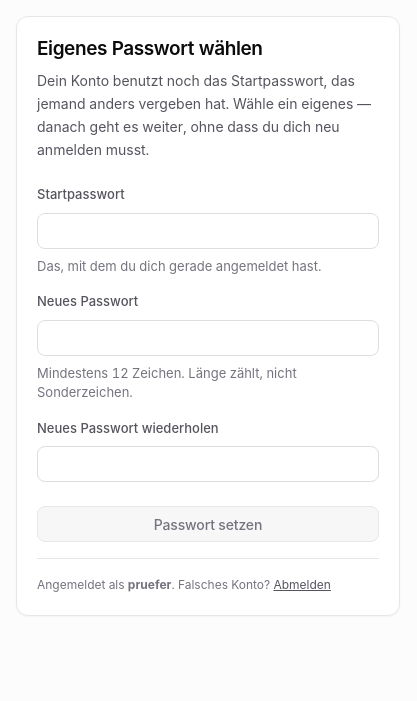
Test: Passwortwechsel › zeigt die Meldung des Backends, statt sie zu verschlucken
Type "abcd-efgh-ijkl-mnop" into the password field labelled "Startpasswort" at [208, 231], box left=37, top=213, right=379, bottom=249
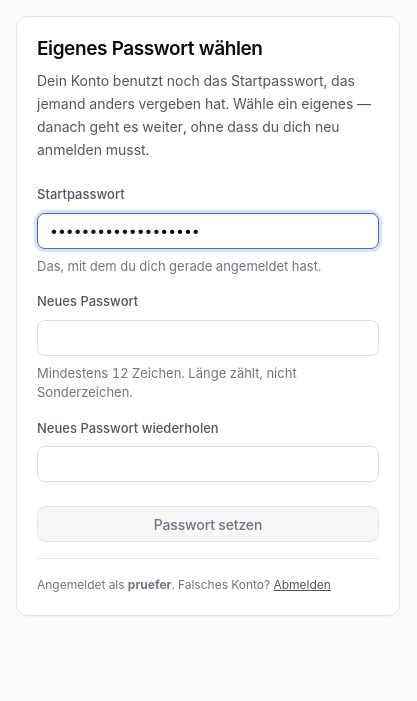
Type "mein-eigenes-langes-passwort" into the password field labelled "Neues Passwort" at [208, 338], box left=37, top=320, right=379, bottom=356
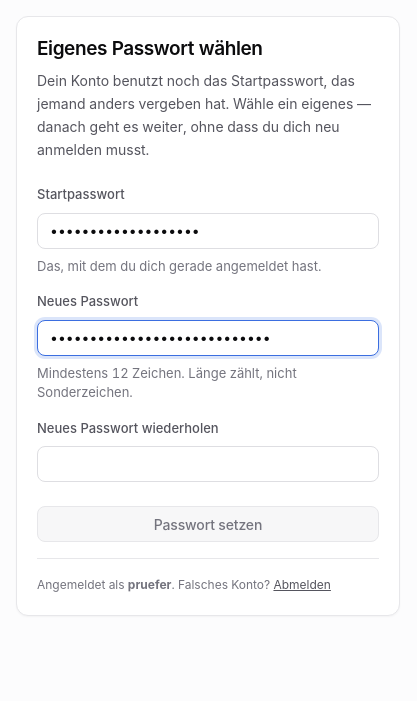
Type "mein-eigenes-langes-passwort" into the password field labelled "Neues Passwort wiederholen" at [208, 464], box left=37, top=446, right=379, bottom=482
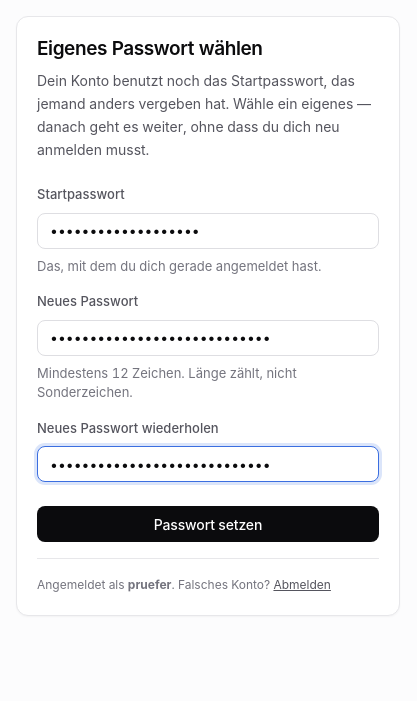
Click the button "Passwort setzen" at [208, 524], box left=37, top=506, right=379, bottom=542
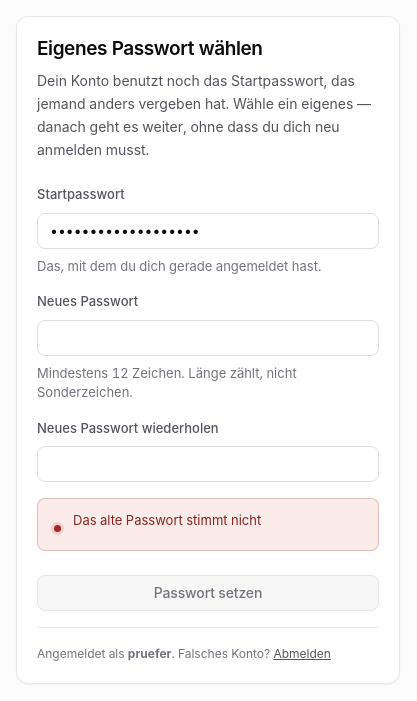
Expected: the message shows "stimmt nicht", left=73, top=512, right=261, bottom=528
